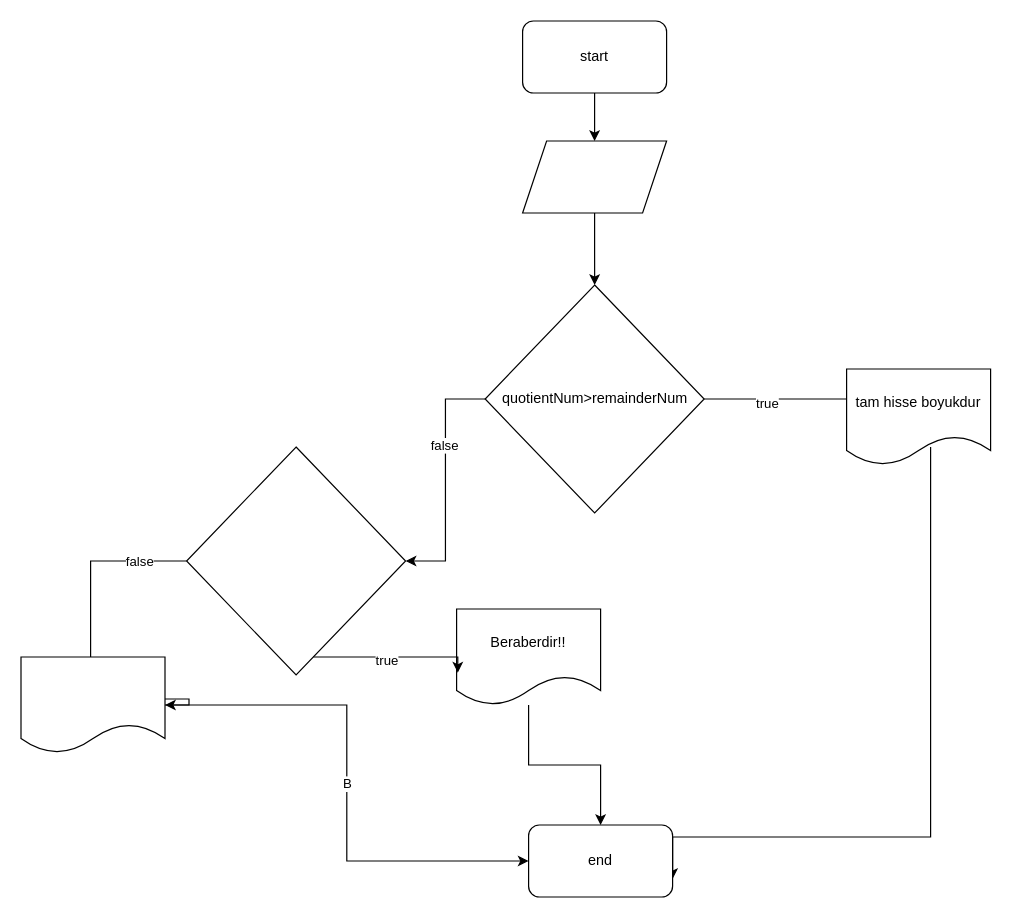
This 1012x918 diagram has some shape labels left out. The centre of each missing label's shape, as x and y in pixels:
"int num int quotientNum int remainderNum" goes at point 594,176.
"kesr hisse boyukdur" goes at point 92,704.
"quotientNum==remainderNum" goes at point 295,560.
